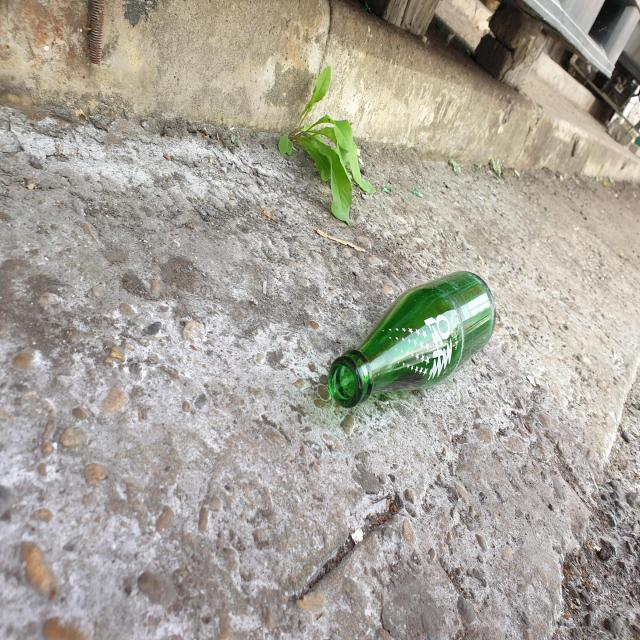glass: (328, 271, 496, 408)
